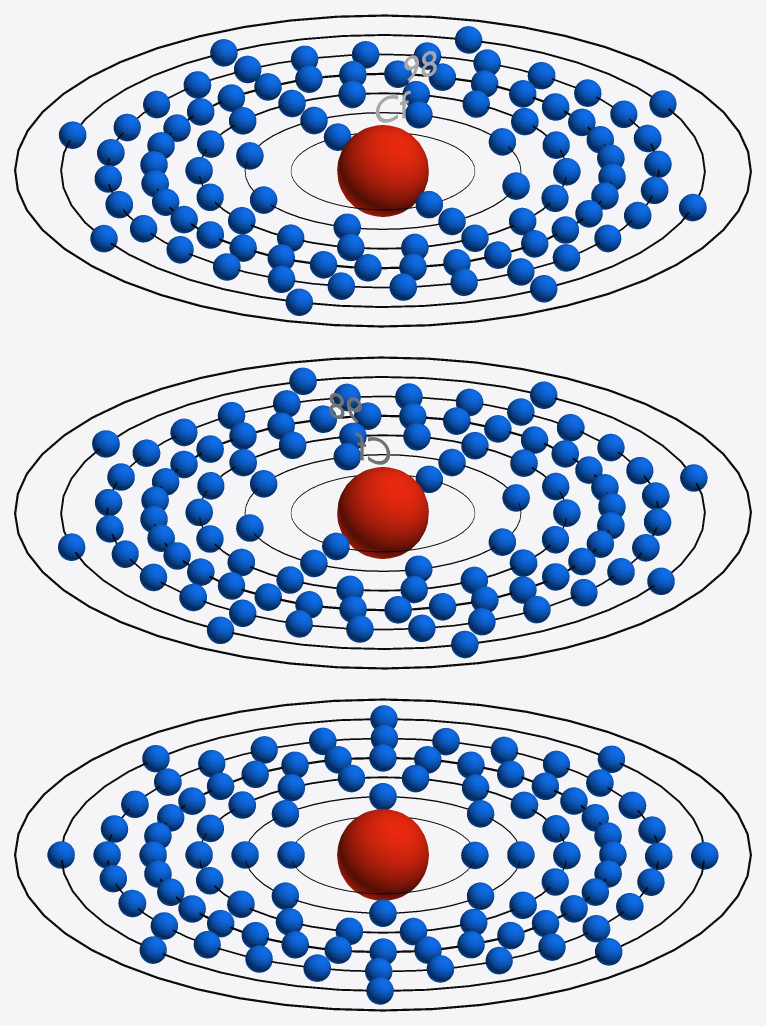
The picture shows the model from 3 angles, top to bottom: view 1: azimuth 30°, elevation 25°; view 2: azimuth 150°, elevation 25°; view 3: azimuth 270°, elevation 25°; orthographic projection.
Visible parts, largest first — view 1: Cf4, Cf5, Cf3, Proton, Cf6, Cf2, n7, n6, n5, Cf1, n3, n4 (+1 smaller); view 2: Cf4, Cf5, Cf3, Proton, Cf6, Cf2, n7, n6, n5, Cf1, n3, n4 (+1 smaller); view 3: Cf4, Cf5, Cf3, Proton, Cf2, n7, Cf6, n6, n5, Cf1, n3, n4 (+2 smaller).
Part boxes in pixels (x1=…): Cf4: x1=140, y1=60, x2=625, y2=281; Cf5: x1=94, y1=41, x2=671, y2=300; Cf3: x1=185, y1=80, x2=580, y2=261; Proton: x1=337, y1=125, x2=428, y2=216; Cf6: x1=58, y1=26, x2=706, y2=315; Cf2: x1=236, y1=101, x2=529, y2=238; n7: x1=14, y1=14, x2=751, y2=327; n6: x1=60, y1=34, x2=705, y2=307; n5: x1=107, y1=53, x2=659, y2=288; Cf1: x1=323, y1=123, x2=442, y2=218; n3: x1=199, y1=92, x2=566, y2=249; n4: x1=152, y1=72, x2=611, y2=269; Cf4: x1=140, y1=402, x2=625, y2=623; Cf5: x1=95, y1=383, x2=671, y2=642; Cf3: x1=185, y1=422, x2=580, y2=603; Proton: x1=337, y1=467, x2=428, y2=558; Cf6: x1=58, y1=367, x2=707, y2=658; Cf2: x1=236, y1=443, x2=529, y2=580; n7: x1=14, y1=356, x2=751, y2=669; n6: x1=60, y1=376, x2=705, y2=649; n5: x1=106, y1=395, x2=658, y2=630; Cf1: x1=322, y1=465, x2=442, y2=560; n3: x1=199, y1=434, x2=566, y2=591; n4: x1=153, y1=414, x2=613, y2=611; Cf4: x1=139, y1=744, x2=626, y2=963; Cf5: x1=93, y1=724, x2=672, y2=982; Cf3: x1=185, y1=764, x2=580, y2=945; Proton: x1=337, y1=809, x2=428, y2=900; Cf2: x1=231, y1=783, x2=534, y2=926; n7: x1=14, y1=698, x2=751, y2=1011; Cf6: x1=47, y1=705, x2=718, y2=1004; n6: x1=61, y1=718, x2=704, y2=991; n5: x1=107, y1=738, x2=658, y2=971; Cf1: x1=277, y1=841, x2=488, y2=869; n3: x1=199, y1=776, x2=566, y2=933; n4: x1=153, y1=757, x2=612, y2=952.
Size of the model in its own units: 802 by 180 by 802.
